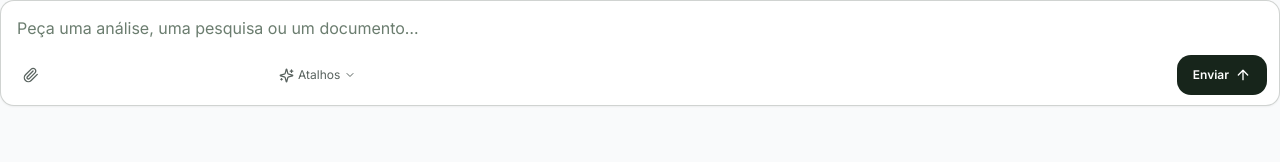
it: composição sem envio acidental › atalhos só ocupam espaço quando abertos e abrir não envia trabalho
Check: the text "Preparar parecer" is not shown
Click the button with aria-label "Pedidos rápidos": (318, 75) [271,57,364,93]
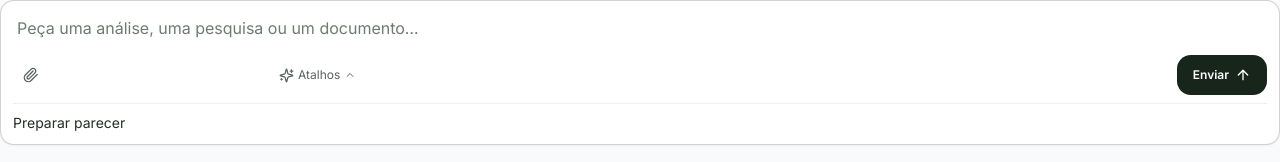
Check: the text "Preparar parecer" is shown, box [13,114,125,131]
